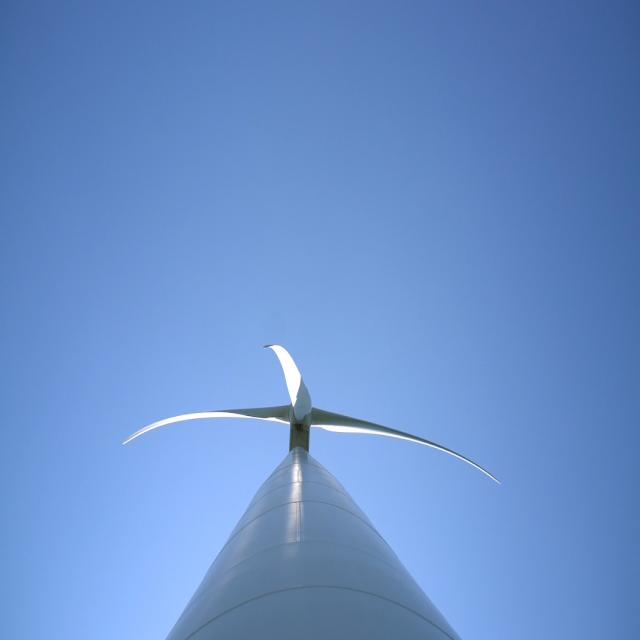blade 1: (260, 324, 312, 387)
blade 2: (351, 400, 506, 488)
blade 3: (87, 398, 278, 452)
